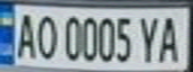0: (78, 12, 100, 63), (60, 11, 81, 62), (97, 14, 118, 63)
5: (115, 12, 139, 63)
A: (154, 11, 187, 64), (12, 9, 39, 60)
O: (33, 10, 60, 61)
Y: (136, 12, 163, 63)
